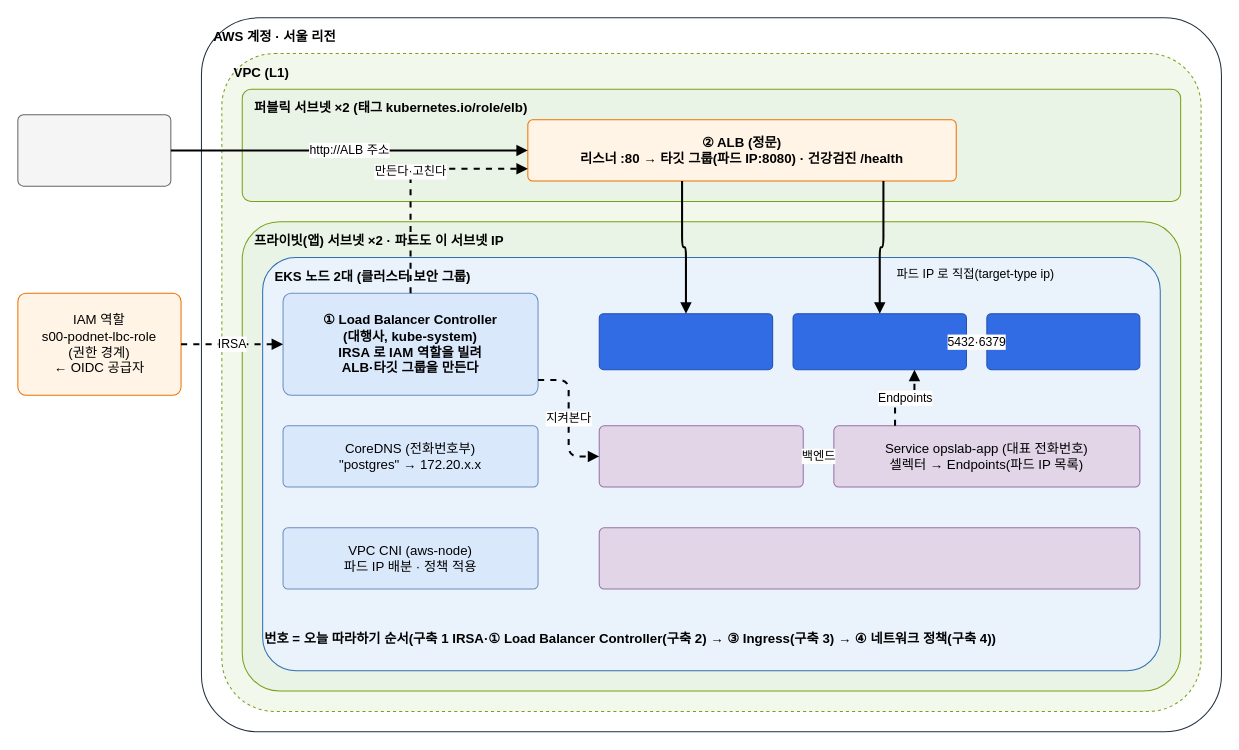
This 1239x750 diagram has some shape labels left out. Each missing label, with the centre of its shape:
"PostgreSQL · Redis" belongs at point (1063, 341).
"③ Ingress opslab-app (정문 안내 데스크)" belongs at point (700, 456).
"④ NetworkPolicy db-allow-app (출입문 규칙) DB 에는 앱 파드만 — VPC CNI 네트워크 정책 기능이 적용" belongs at point (869, 558).
"사용자 (브라우저 · 부하 파드)" belongs at point (94, 150).
"앱 파드 10.0.10.x:8080" belongs at point (685, 341).
"앱 파드 10.0.11.x:8080" belongs at point (879, 341).
